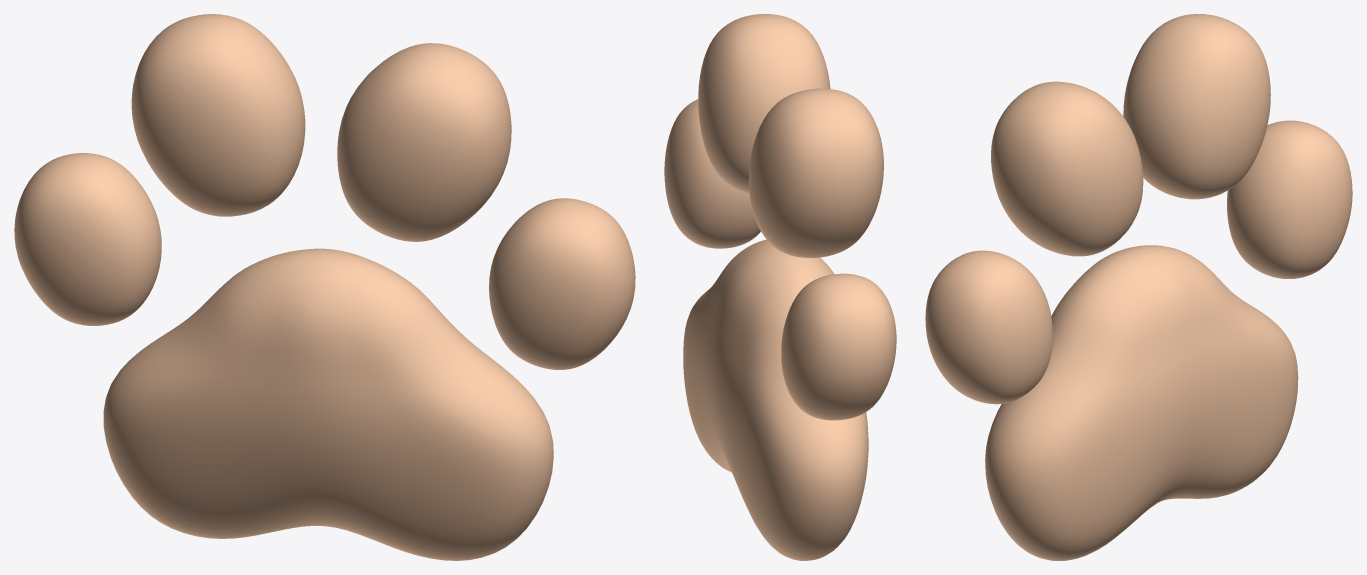
The model's file is zhua.fbx.
3 views of the same model, side by side, from view 1: azimuth 30°, elevation 25°; view 2: azimuth 150°, elevation 25°; view 3: azimuth 270°, elevation 25° (orthographic). The views are drawn at different scales.
Parts seen in each view (by area): view 1: Logos__1_; view 2: Logos__1_; view 3: Logos__1_.
Boxes of the visible parts, x1=… form: Logos__1_: x1=14, y1=14, x2=635, y2=560; Logos__1_: x1=664, y1=14, x2=896, y2=560; Logos__1_: x1=925, y1=14, x2=1352, y2=560.
Bounding box in the file's own units: 32.17 × 37.53 × 31.25.
